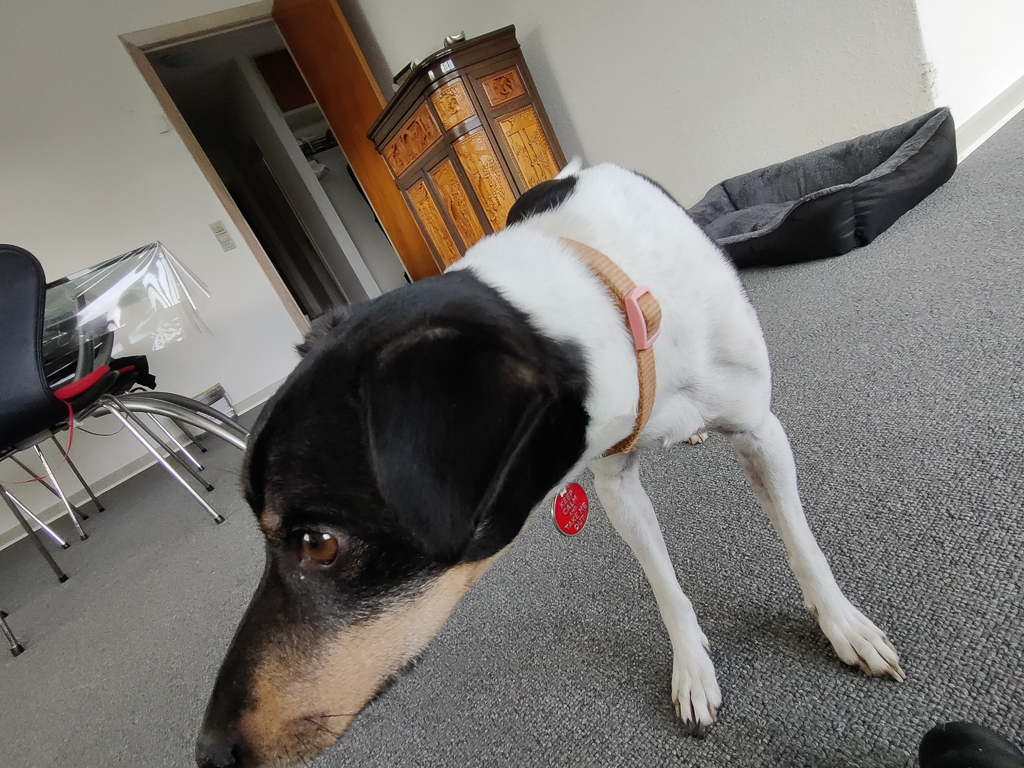Dog: (172, 140, 912, 768)
Humanoid: (908, 712, 1024, 768)
